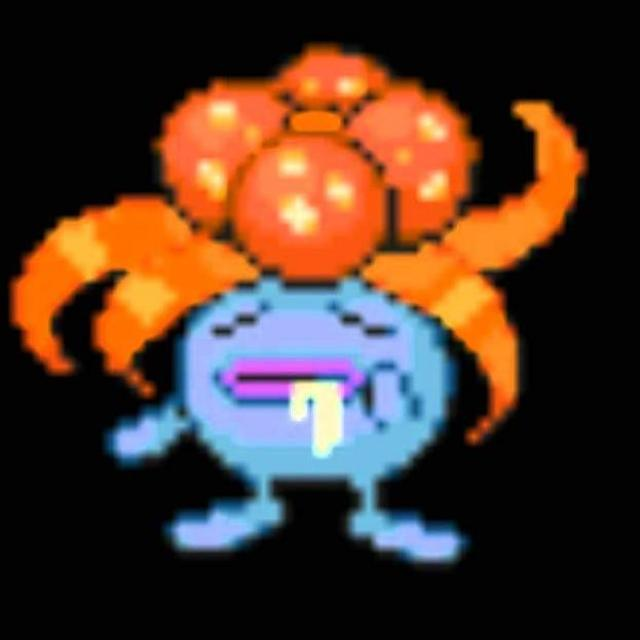Gloom: (0, 43, 589, 573)
